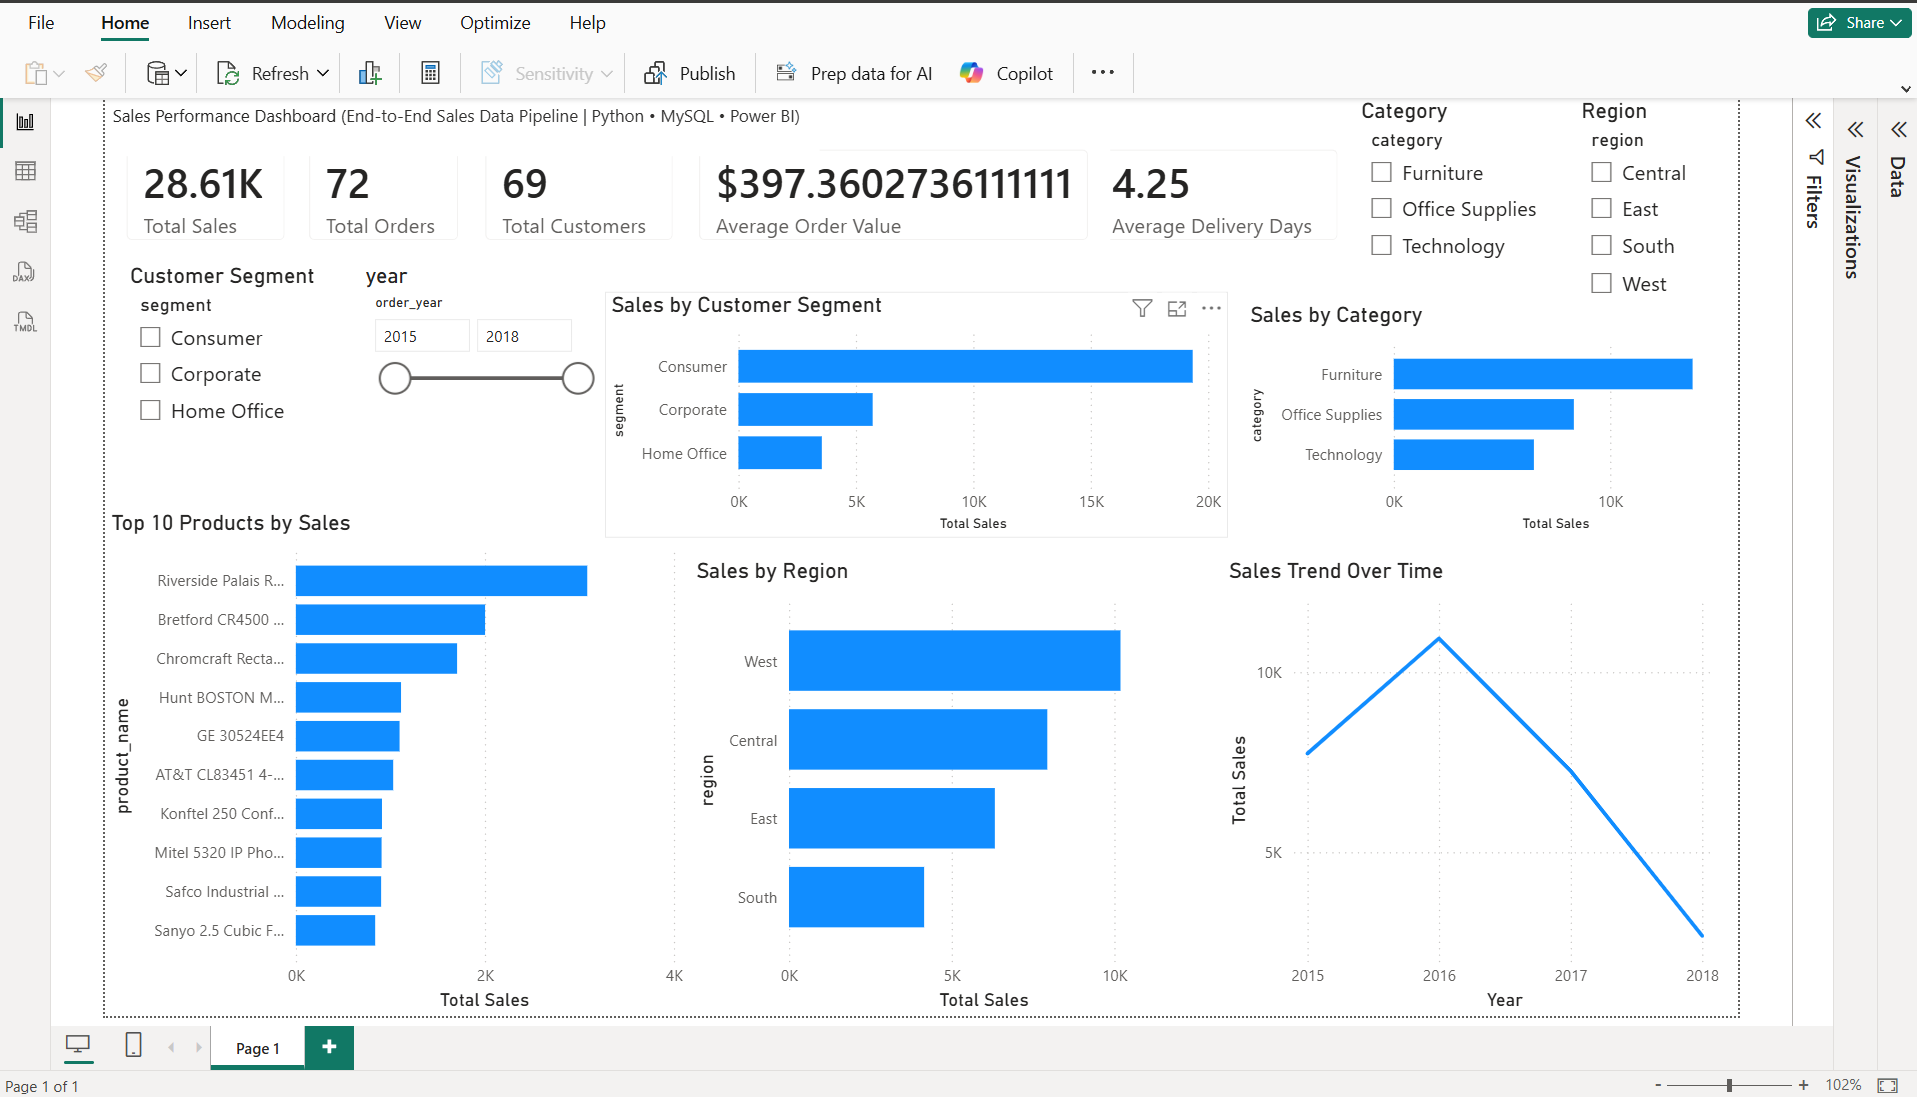

The dashboard page shown, as its layout file describes it:
{"tool":"powerbi","page":{"name":"Page 1","canvas":[1280,720],"ordinal":0},"visuals":[{"type":"barChart","title":"Sales by Category","fields":{"Category":["sales_pipeline dim_product.category"],"Y":["fact_sales.Total Sales"]},"box":[754.7,137.2,387.2,184.9],"z":0},{"type":"clusteredBarChart","title":"Sales by Region","fields":{"Category":["sales_pipeline dim_location.region"],"Y":["fact_sales.Total Sales"]},"box":[458.1,360.5,398.8,359.3],"z":1000},{"type":"lineChart","title":"Sales Trend Over Time","fields":{"Category":["fact_sales.order_date.Variation.Date Hierarchy.Year","fact_sales.order_date.Variation.Date Hierarchy.Quarter","fact_sales.order_date.Variation.Date Hierarchy.Month","fact_sales.order_date.Variation.Date Hierarchy.Day"],"Y":["fact_sales.Total Sales"]},"box":[875.6,360.5,394.2,359.3],"z":2000},{"type":"cardVisual","fields":{"Data":["fact_sales.Average Delivery Days"]},"box":[765.1,5.8,204.3,105.7],"z":3000},{"type":"cardVisual","fields":{"Data":["fact_sales.Average Order Value"]},"box":[560.5,5.8,204.3,105.7],"z":4000},{"type":"cardVisual","fields":{"Data":["fact_sales.Total Sales"]},"box":[0,23.3,204.3,105.7],"z":5000},{"type":"cardVisual","fields":{"Data":["fact_sales.Total Orders"]},"box":[193,23.3,204.3,105.7],"z":6000},{"type":"cardVisual","fields":{"Data":["fact_sales.Total Customers"]},"box":[380.2,23.3,203.3,105.7],"z":7000},{"type":"clusteredBarChart","title":"Top 10 Products by Sales","fields":{"Y":["fact_sales.Total Sales"],"Category":["sales_pipeline dim_product.product_name"]},"box":[0,322.1,458.1,397.7],"z":8000},{"type":"clusteredBarChart","title":"Sales by Customer Segment","fields":{"Y":["fact_sales.Total Sales"],"Category":["sales_pipeline dim_customer.segment"]},"box":[397.7,138.4,345.3,193],"z":9000},{"type":"slicer","title":"year","fields":{"Values":["sales_pipeline dim_date.order_year"]},"box":[198.8,129.1,193,105.7],"z":10000},{"type":"slicer","title":"Region","fields":{"Values":["sales_pipeline dim_location.region"]},"box":[1141.9,0,127.9,169.8],"z":11000},{"type":"slicer","title":"Category","fields":{"Values":["sales_pipeline dim_product.category"]},"box":[969.8,5.8,172.4,140.9],"z":12000},{"type":"slicer","title":"Customer Segment","fields":{"Values":["sales_pipeline dim_customer.segment"]},"box":[15.1,129.1,189.5,149.8],"z":13000},{"type":"textbox","box":[1.2,0,559.3,45.3],"z":14000}]}

Visuals, with their boxes on the page's 1280x720 design canvas (x1, y1, x2, y2). These are canvas units, not pixel positions in the 1917x1097 screenshot, which may show the page scaled, cropped or inside an application window:
"Sales by Category" barChart: 755 137 1142 322
"Sales by Region" clusteredBarChart: 458 360 857 720
"Sales Trend Over Time" lineChart: 876 360 1270 720
cardVisual - fact_sales.Average Delivery Days: 765 6 969 112
cardVisual - fact_sales.Average Order Value: 560 6 765 112
cardVisual - fact_sales.Total Sales: 0 23 204 129
cardVisual - fact_sales.Total Orders: 193 23 397 129
cardVisual - fact_sales.Total Customers: 380 23 584 129
"Top 10 Products by Sales" clusteredBarChart: 0 322 458 720
"Sales by Customer Segment" clusteredBarChart: 398 138 743 331
"year" slicer: 199 129 392 235
"Region" slicer: 1142 0 1270 170
"Category" slicer: 970 6 1142 147
"Customer Segment" slicer: 15 129 205 279
textbox: 1 0 560 45
